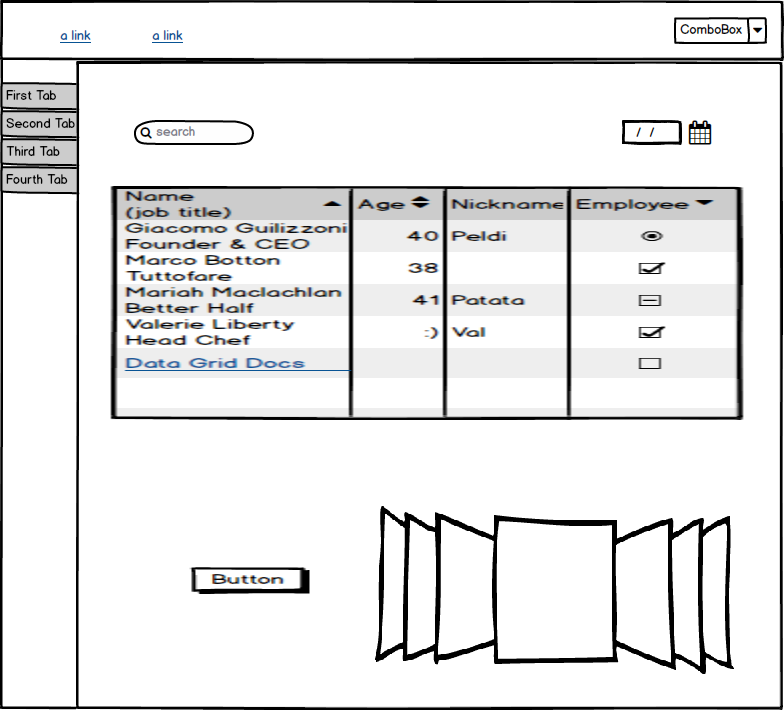button: (189, 562, 315, 598)
date_picker: (616, 115, 721, 152)
navlink: (142, 23, 190, 50), (55, 24, 98, 48)
search: (130, 112, 259, 152)
select_box: (667, 12, 768, 48)
sidebar: (1, 71, 82, 202)
slideshow: (367, 501, 741, 681)
table: (106, 181, 752, 426)
